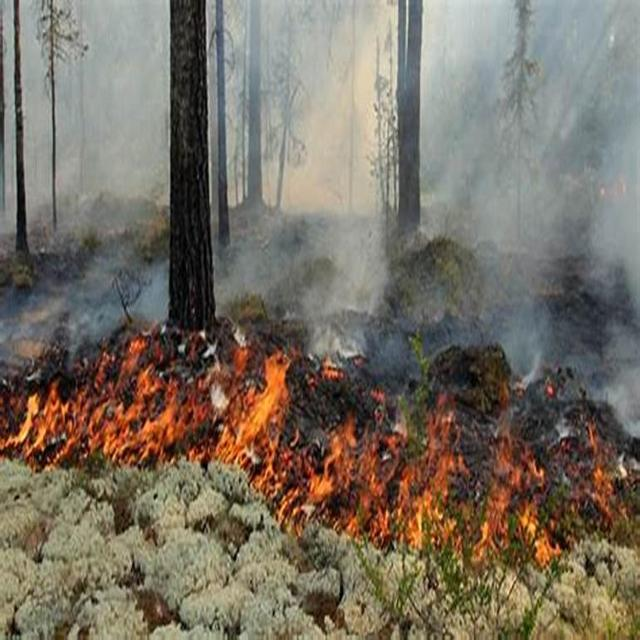fire: (402, 431, 471, 538), (238, 346, 283, 476), (101, 402, 181, 474)
smoke: (223, 21, 640, 371)
